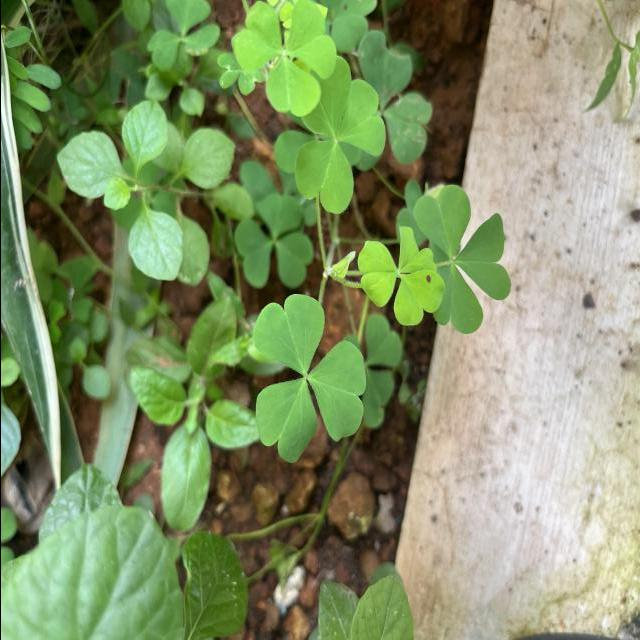Oxalis corniculata: (249, 292, 366, 465), (290, 58, 388, 216), (412, 184, 512, 336), (233, 0, 337, 118), (354, 224, 444, 328), (234, 194, 314, 290)
